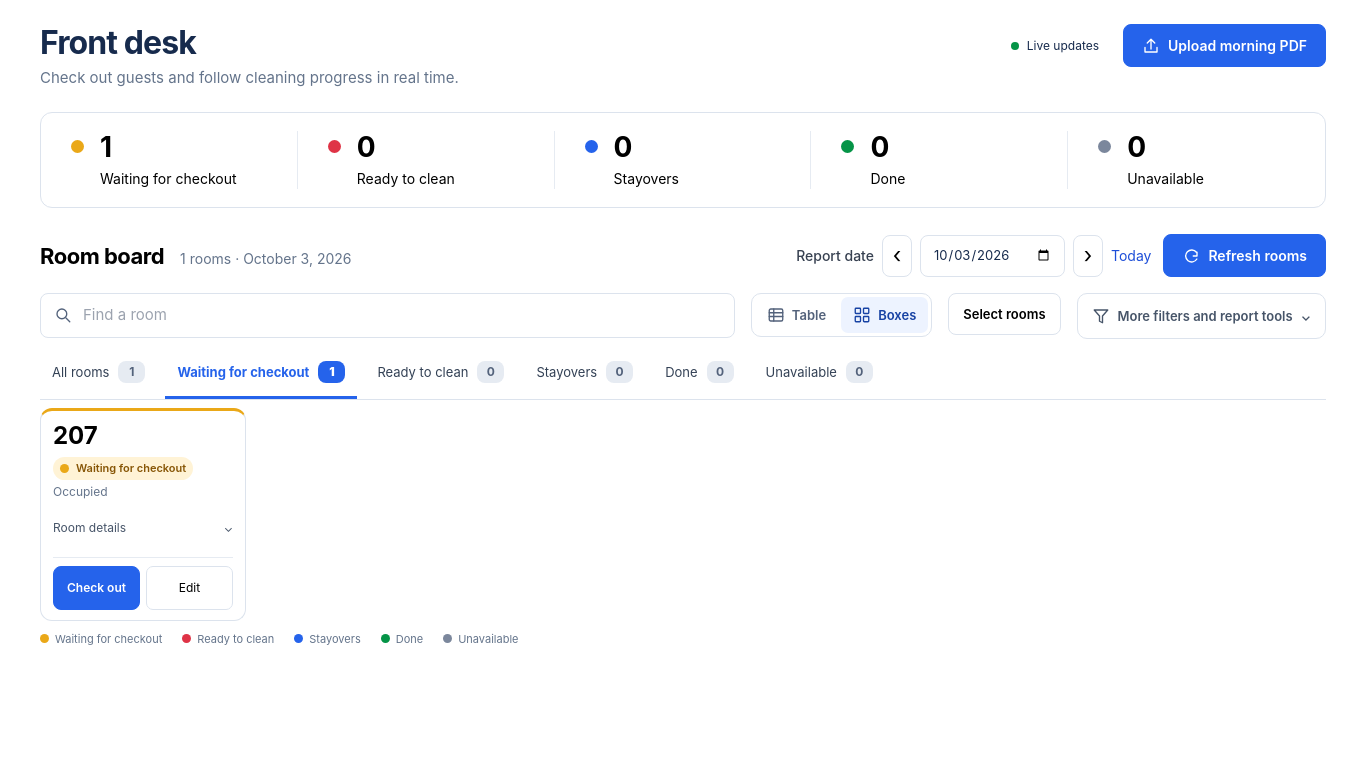
Test: a live stay extension prevents saving an operational draft for the previously departing guest
Click the button with aria-label "Edit room 207": (190, 588) [146, 566, 233, 610]
(page scrolled)
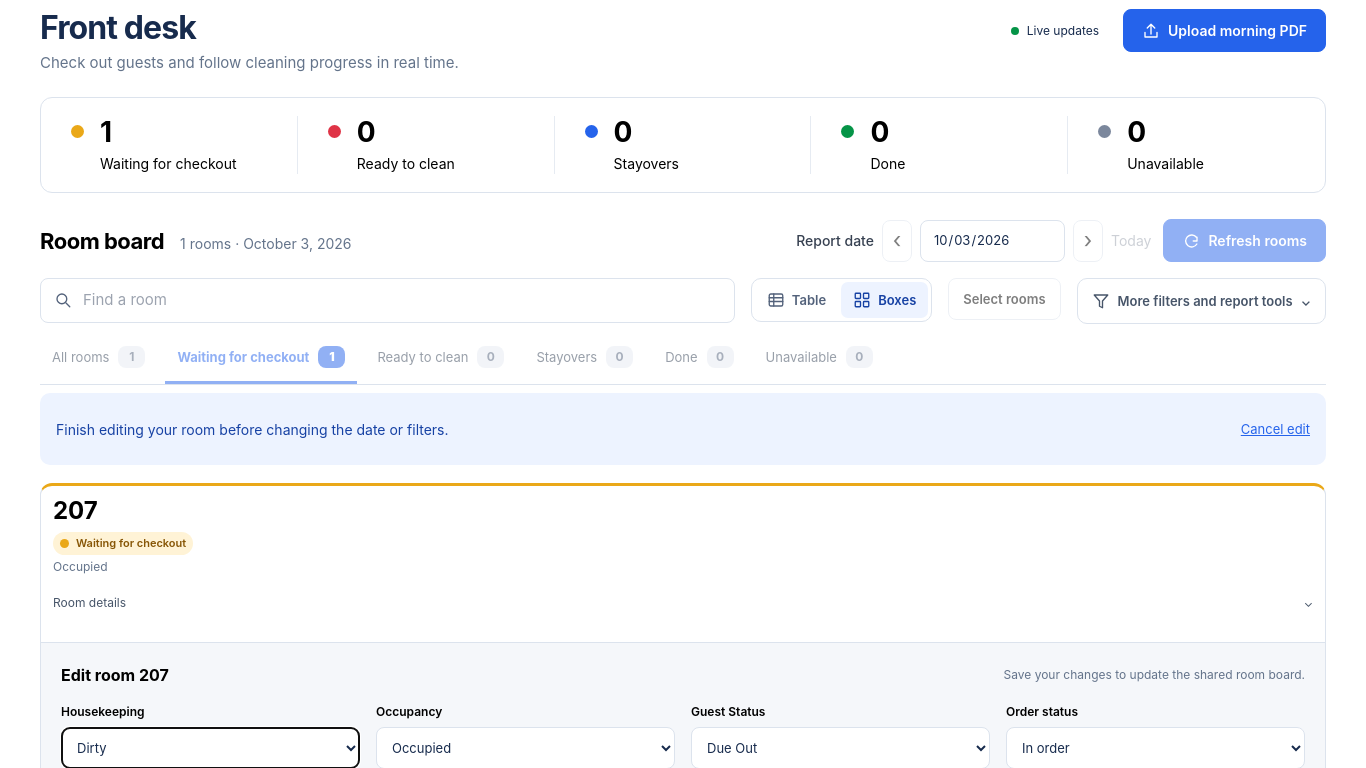
Select "Vacant" in the dropdown labelled "Occupancy": (526, 748) [376, 727, 675, 767]
(page scrolled)
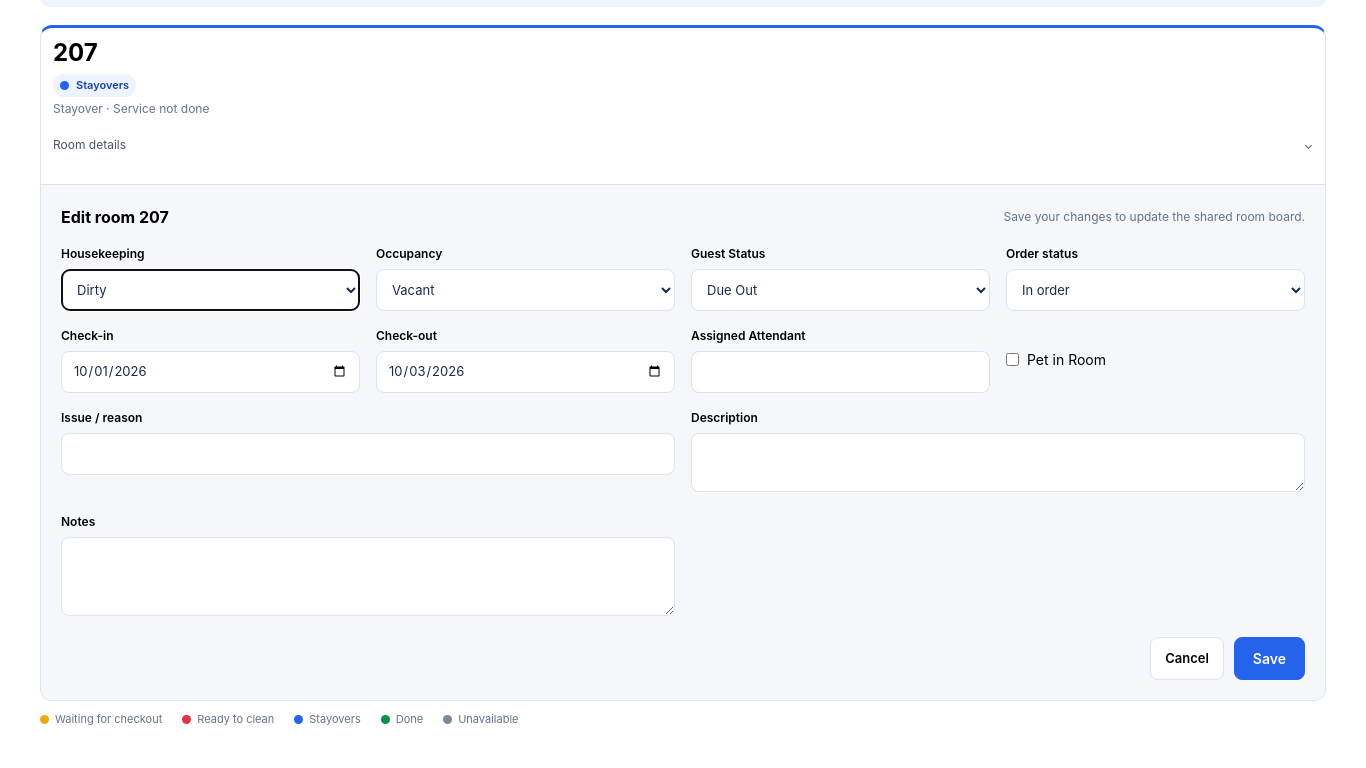
Click the button "Save": (1269, 659) [1234, 637, 1305, 680]
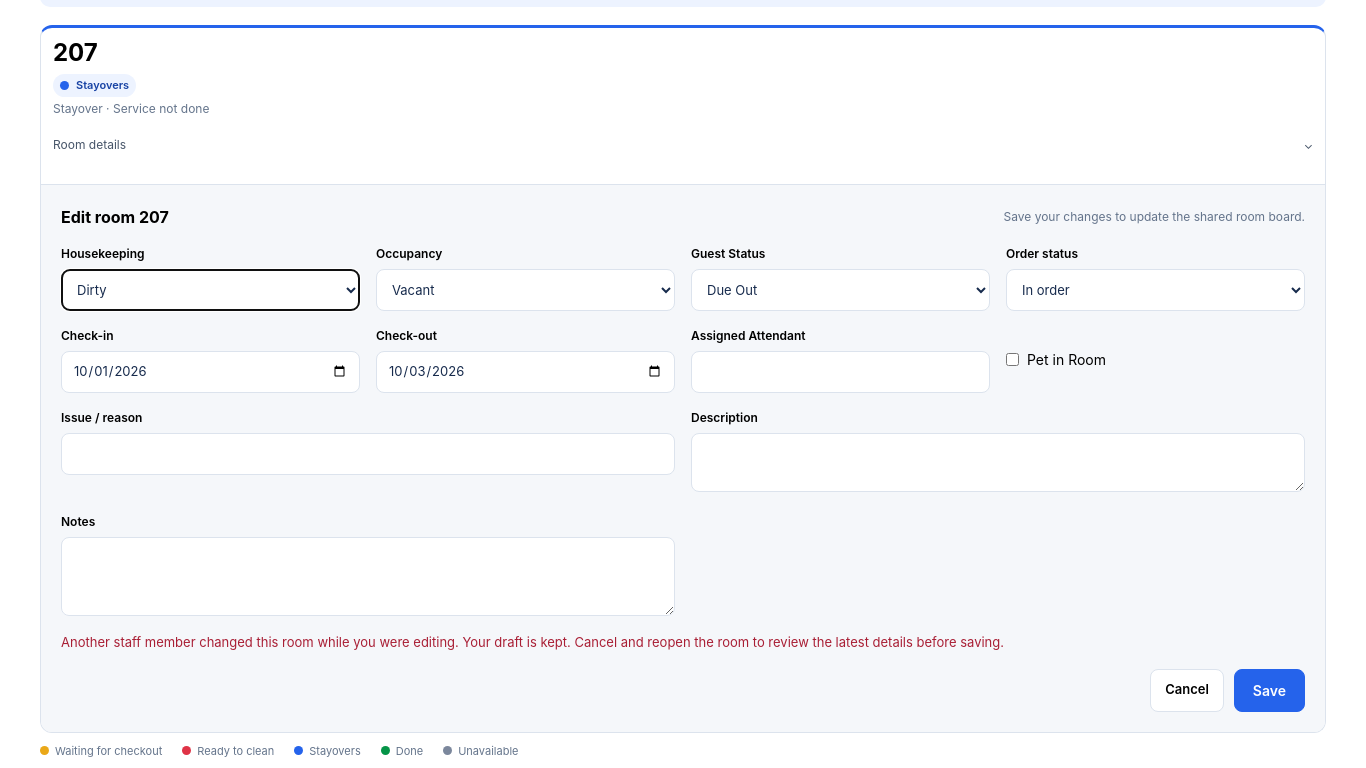
Expected: the form "Edit room 207" is shown
Expected: the message shows "Another staff member changed this room while you were editing. Your draft is kept.", [61, 634, 1004, 650]
